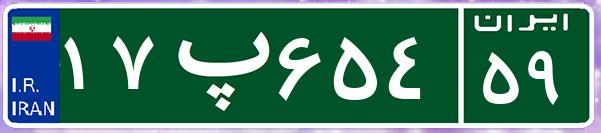1: (57, 26, 110, 107)
4: (385, 28, 445, 110)
5: (330, 28, 385, 110), (475, 38, 525, 113)
6: (273, 28, 330, 110)
7: (110, 28, 158, 105)
9: (525, 38, 570, 115)
پ: (158, 15, 273, 115)
